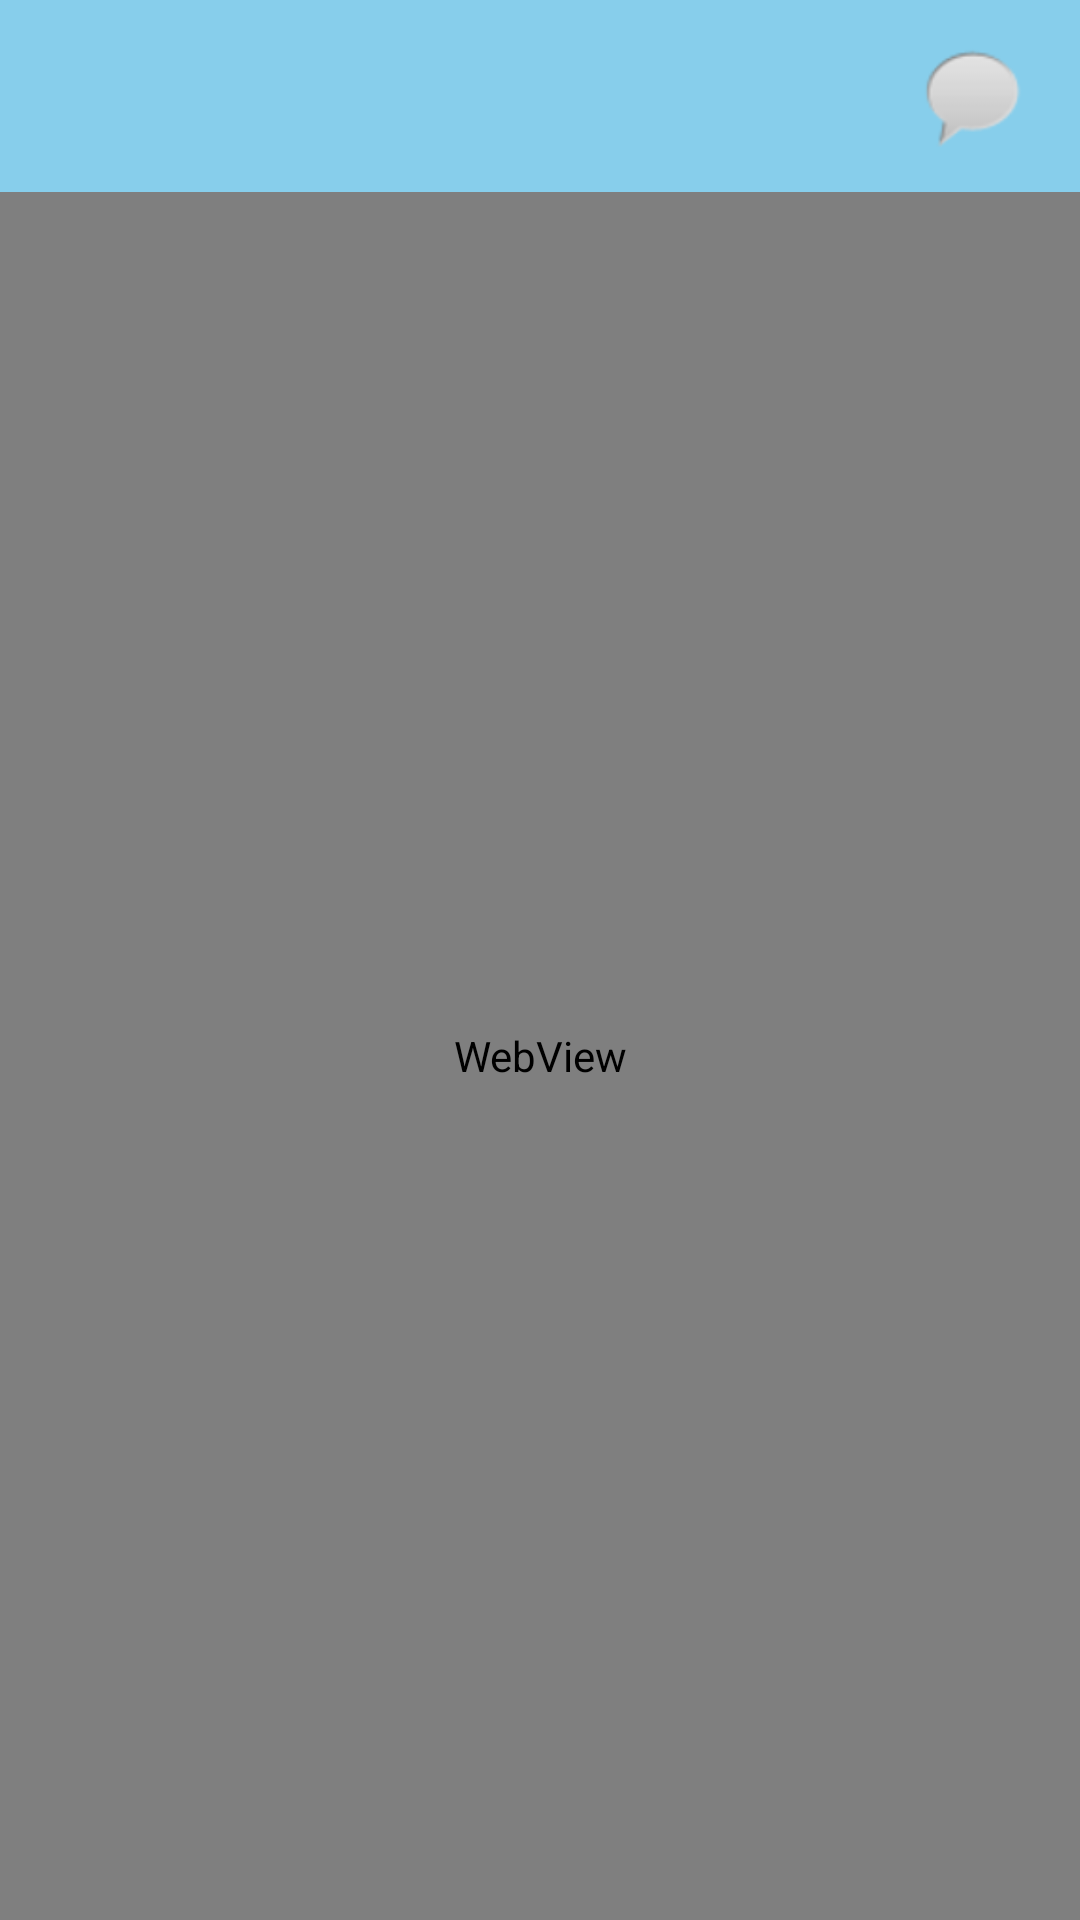

Icons on this 1080×1920 Android screen, each with its box as (x1, y1, x2, y2):
sym action chat: (926, 51, 1019, 145)
